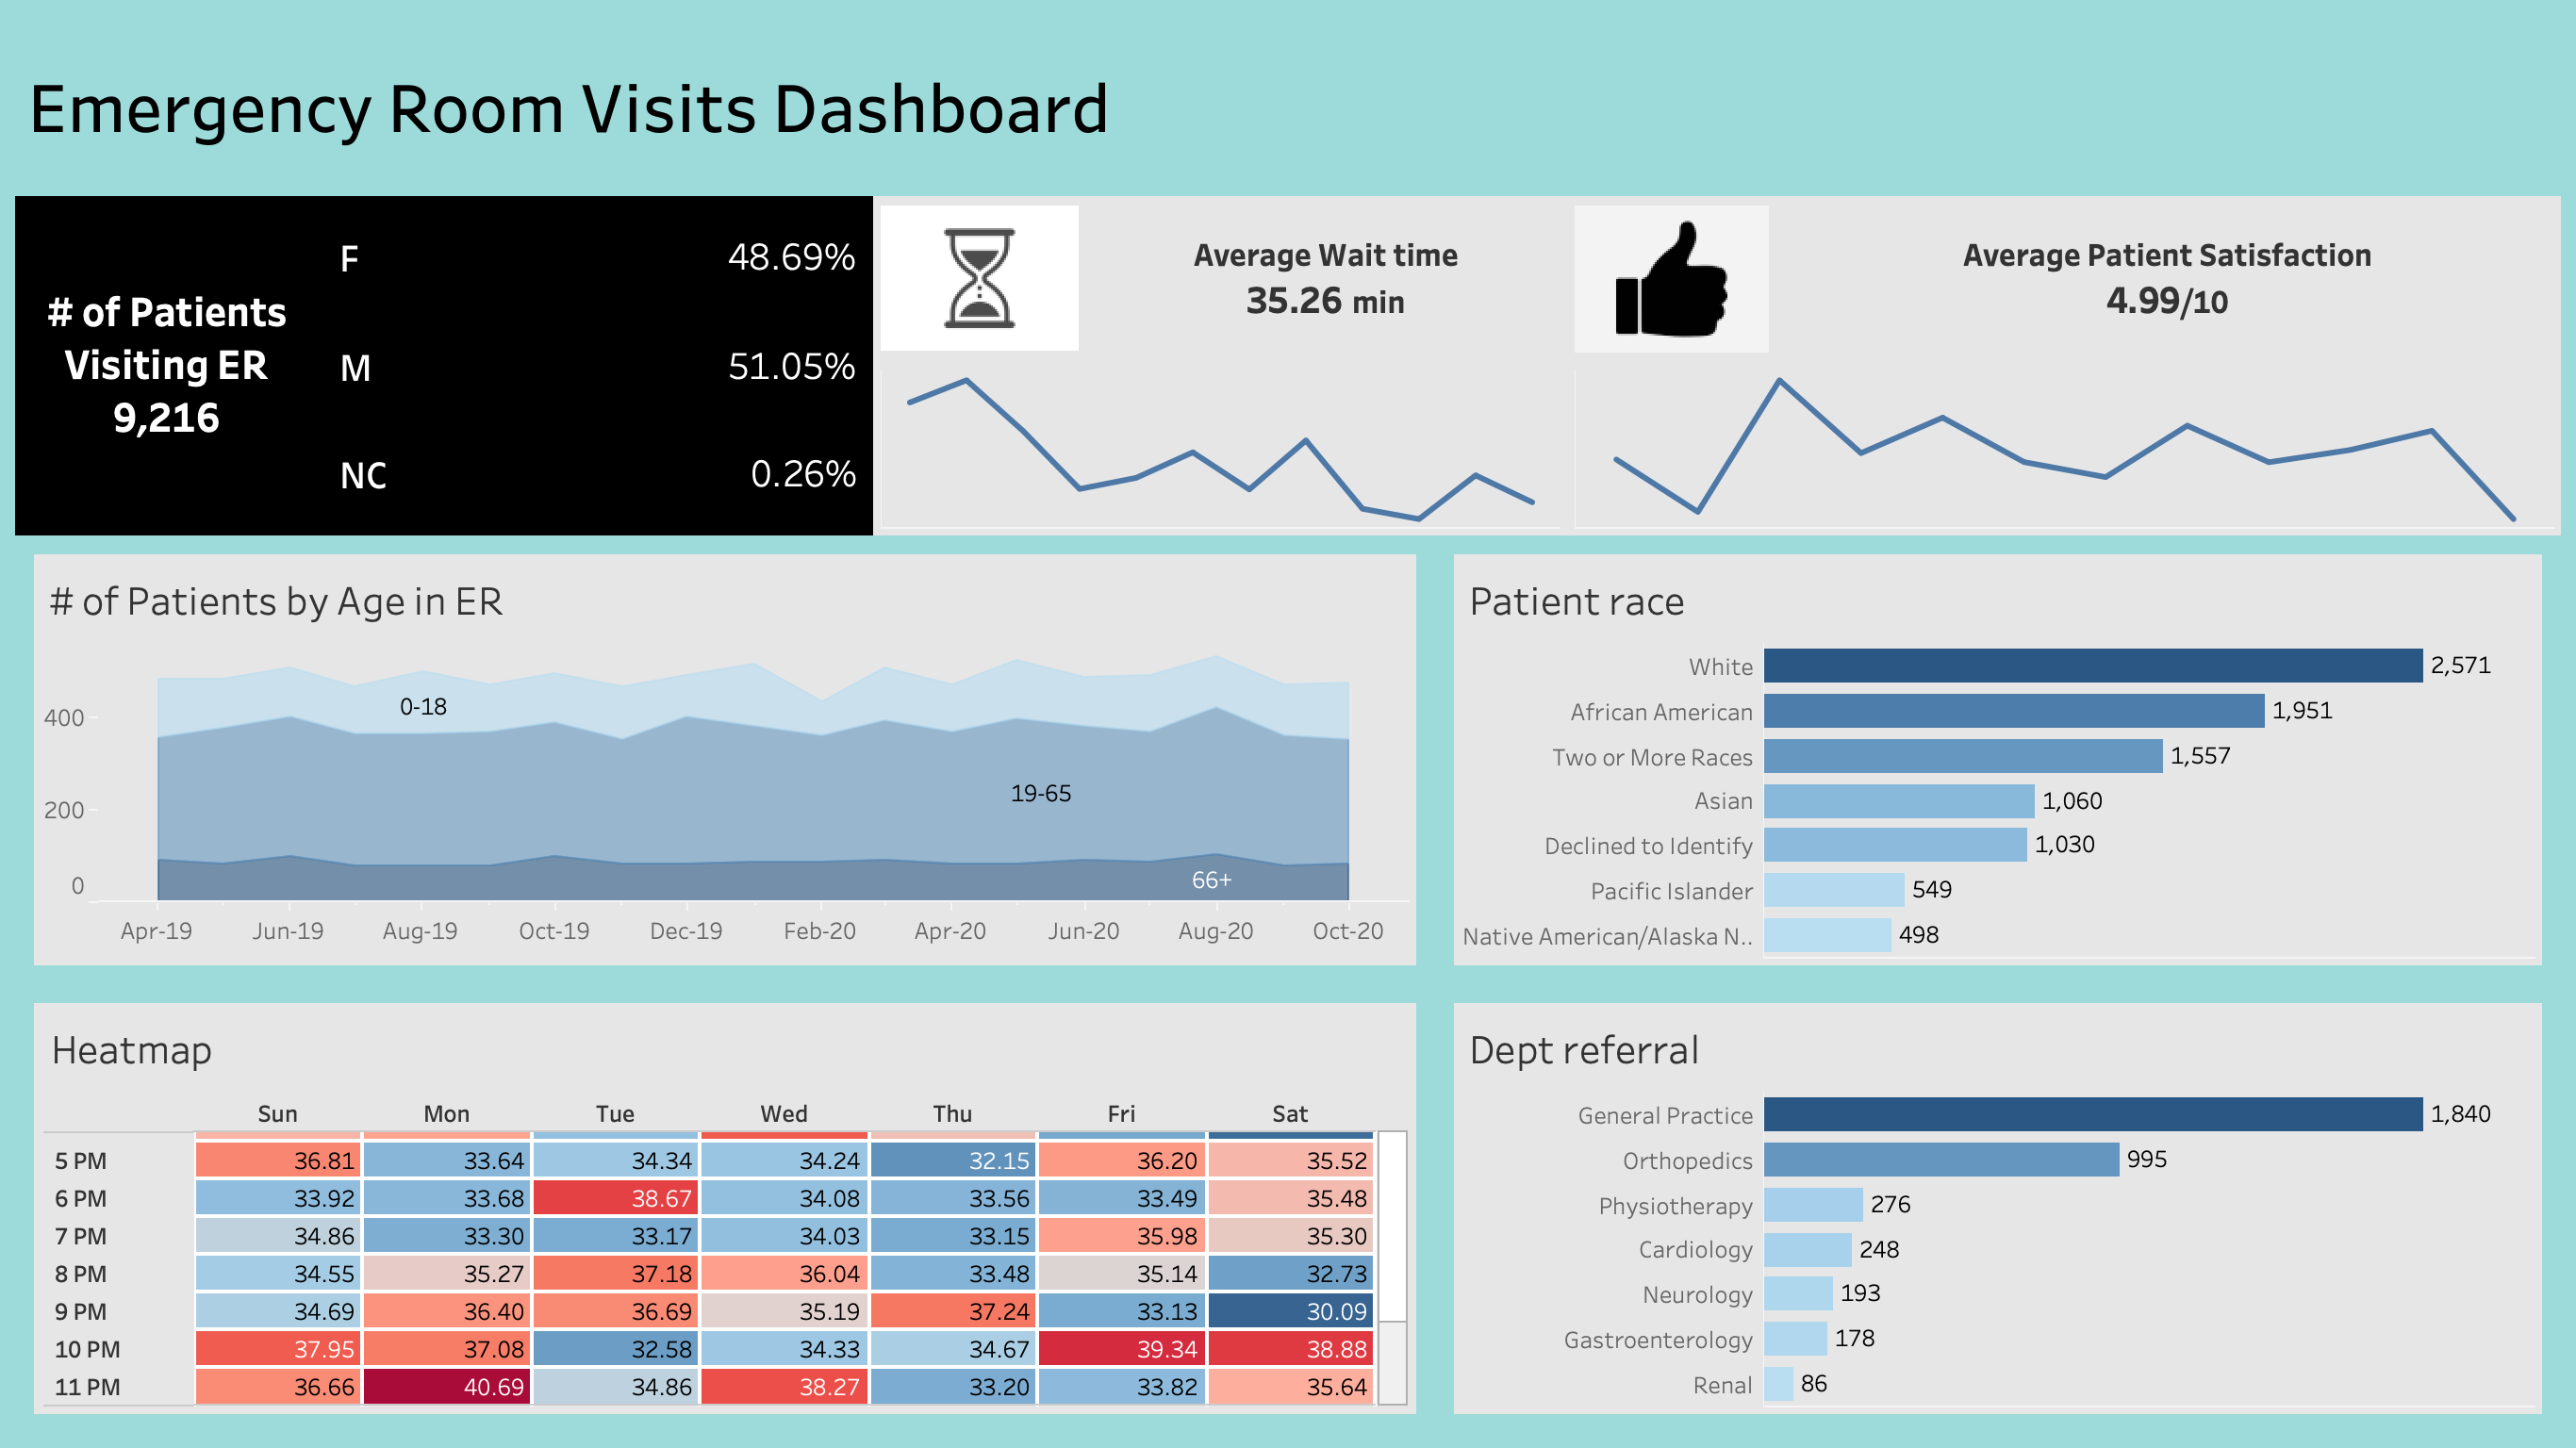

What the dashboard file says about the page in this screenshot:
{"tool":"tableau","page":{"name":"Dashboard 1","canvas":[1366,768],"ordinal":0},"visuals":[{"type":"text","box":[8,8,1350,96]},{"type":"worksheet","title":"# Pats ER","mark":"Automatic","box":[8,104,162,180]},{"type":"worksheet","title":"Gender","mark":"Automatic","rows":["patient_gender"],"box":[170,104,293.2,180]},{"type":"image","box":[463.2,104,112.7,88]},{"type":"worksheet","title":"Average Waittime:","mark":"Automatic","box":[576,104,255,88]},{"type":"image","box":[831,104,111,88]},{"type":"worksheet","title":"Average Satisfaction","mark":"Automatic","box":[942,104,416,88]},{"type":"worksheet","title":"Waittime Average","mark":"Automatic","rows":["patient_waittime"],"cols":["date"],"box":[463.2,192,367.8,92]},{"type":"worksheet","title":"Patient Satisfaction","mark":"Automatic","rows":["patient_sat_score"],"cols":["date"],"box":[831,192,527,92]},{"type":"worksheet","title":"# of Patients by Age","mark":"Area","rows":["patient_id"],"cols":["date"],"box":[18,294,733.5,218]},{"type":"worksheet","title":"Patient race","mark":"Automatic","rows":["patient_race"],"cols":["patient_id"],"box":[771.5,294,576.5,218]},{"type":"worksheet","title":"heatmap","mark":"Square","rows":["date"],"cols":["date"],"box":[18,532,733.5,218]},{"type":"worksheet","title":"Dept referral","mark":"Automatic","rows":["department_referral"],"cols":["patient_id"],"box":[771.5,532,576.5,218]}]}

Visuals, with their boxes in screenshot pixels (x1, y1, x2, y2), scaled from the page's 1366x768 canvas onto the 2576x1448 screenshot:
text: [x1=15, y1=15, x2=2561, y2=196]
"# Pats ER" worksheet: [x1=15, y1=196, x2=321, y2=535]
"Gender" worksheet: [x1=321, y1=196, x2=873, y2=535]
image: [x1=873, y1=196, x2=1086, y2=362]
"Average Waittime:" worksheet: [x1=1086, y1=196, x2=1567, y2=362]
image: [x1=1567, y1=196, x2=1776, y2=362]
"Average Satisfaction" worksheet: [x1=1776, y1=196, x2=2561, y2=362]
"Waittime Average" worksheet: [x1=873, y1=362, x2=1567, y2=535]
"Patient Satisfaction" worksheet: [x1=1567, y1=362, x2=2561, y2=535]
"# of Patients by Age" worksheet (Area marks): [x1=34, y1=554, x2=1417, y2=965]
"Patient race" worksheet: [x1=1455, y1=554, x2=2542, y2=965]
"heatmap" worksheet (Square marks): [x1=34, y1=1003, x2=1417, y2=1414]
"Dept referral" worksheet: [x1=1455, y1=1003, x2=2542, y2=1414]
